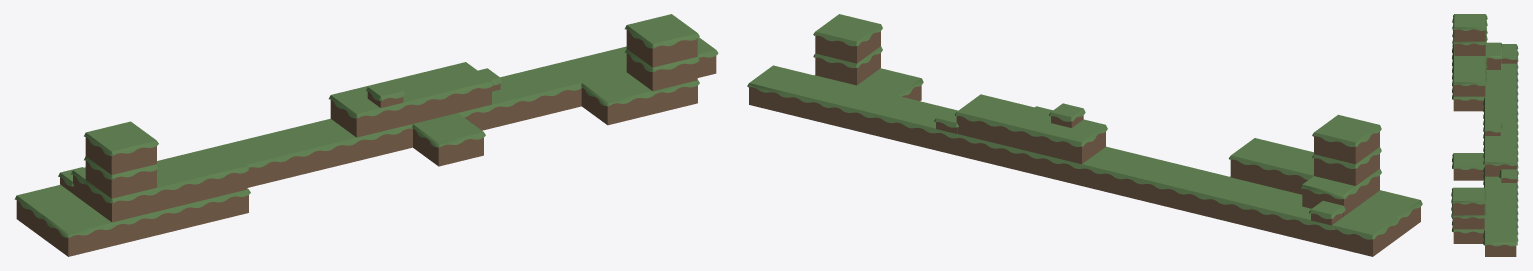
Rendered from wallgroup01.fbx.
The picture shows the model from 3 angles, left to right: view 1: azimuth 30°, elevation 25°; view 2: azimuth 150°, elevation 25°; view 3: azimuth 270°, elevation 25°; orthographic projection. The views are drawn at different scales.
Visible parts, largest first — view 1: blockSnowLarge.003, blockSnowLarge.017, blockSnowLarge.011, blockSnowLarge.014, blockSnowLarge.015, blockSnowLarge.018, blockSnowLarge.013, blockSnowLarge.012, blockSnowLarge.005, blockSnowHalf.015, blockSnowLong.002; view 2: blockSnowLarge.003, blockSnowLarge.017, blockSnowLarge.018, blockSnowLarge.015, blockSnowLarge.014, blockSnowLarge.005, blockSnowLarge.011, blockSnowLong.002, blockSnowLarge.013, blockSnowHalf.015, blockSnowHalf.001, blockSnowHalf.016; view 3: blockSnowLarge.003, blockSnowLarge.017, blockSnowLarge.018, blockSnowLarge.014, blockSnowLarge.015, blockSnowLarge.012, blockSnowLarge.011, blockSnowLarge.013, blockSnowLong.002, blockSnowHalf.015, blockSnowHalf.016, blockSnowHalf.001 (+1 smaller).
Boxes of the visible parts, left/top/right/bottom form: blockSnowLarge.003: left=59, top=37, right=718, bottom=203; blockSnowLarge.017: left=329, top=62, right=493, bottom=137; blockSnowLarge.011: left=40, top=188, right=250, bottom=256; blockSnowLarge.014: left=84, top=147, right=249, bottom=222; blockSnowLarge.015: left=84, top=121, right=158, bottom=198; blockSnowLarge.018: left=624, top=14, right=699, bottom=90; blockSnowLarge.013: left=581, top=72, right=699, bottom=125; blockSnowLarge.012: left=412, top=113, right=485, bottom=166; blockSnowLarge.005: left=14, top=185, right=83, bottom=237; blockSnowHalf.015: left=366, top=81, right=405, bottom=107; blockSnowLong.002: left=71, top=167, right=85, bottom=202; blockSnowLarge.003: left=747, top=65, right=1357, bottom=247; blockSnowLarge.017: left=955, top=94, right=1107, bottom=164; blockSnowLarge.018: left=813, top=14, right=882, bottom=85; blockSnowLarge.015: left=1312, top=114, right=1381, bottom=185; blockSnowLarge.014: left=1229, top=138, right=1381, bottom=207; blockSnowLarge.005: left=1333, top=208, right=1398, bottom=256; blockSnowLarge.011: left=1230, top=176, right=1422, bottom=239; blockSnowLong.002: left=1300, top=176, right=1357, bottom=216; blockSnowLarge.013: left=814, top=68, right=923, bottom=100; blockSnowHalf.015: left=1049, top=103, right=1085, bottom=127; blockSnowHalf.001: left=1309, top=201, right=1345, bottom=225; blockSnowHalf.016: left=934, top=109, right=958, bottom=133; blockSnowLarge.003: left=1483, top=59, right=1518, bottom=256; blockSnowLarge.017: left=1483, top=122, right=1518, bottom=176; blockSnowLarge.018: left=1451, top=187, right=1486, bottom=229; blockSnowLarge.014: left=1452, top=44, right=1487, bottom=96; blockSnowLarge.015: left=1452, top=14, right=1487, bottom=55; blockSnowLarge.012: left=1452, top=153, right=1484, bottom=180; blockSnowLarge.011: left=1452, top=45, right=1484, bottom=111; blockSnowLarge.013: left=1452, top=217, right=1484, bottom=243; blockSnowLong.002: left=1485, top=42, right=1502, bottom=69; blockSnowHalf.015: left=1483, top=122, right=1502, bottom=135; blockSnowHalf.016: left=1499, top=169, right=1518, bottom=182; blockSnowHalf.001: left=1501, top=49, right=1518, bottom=63.
Size of the model in its own units: 30.11 by 4 by 4.29.
